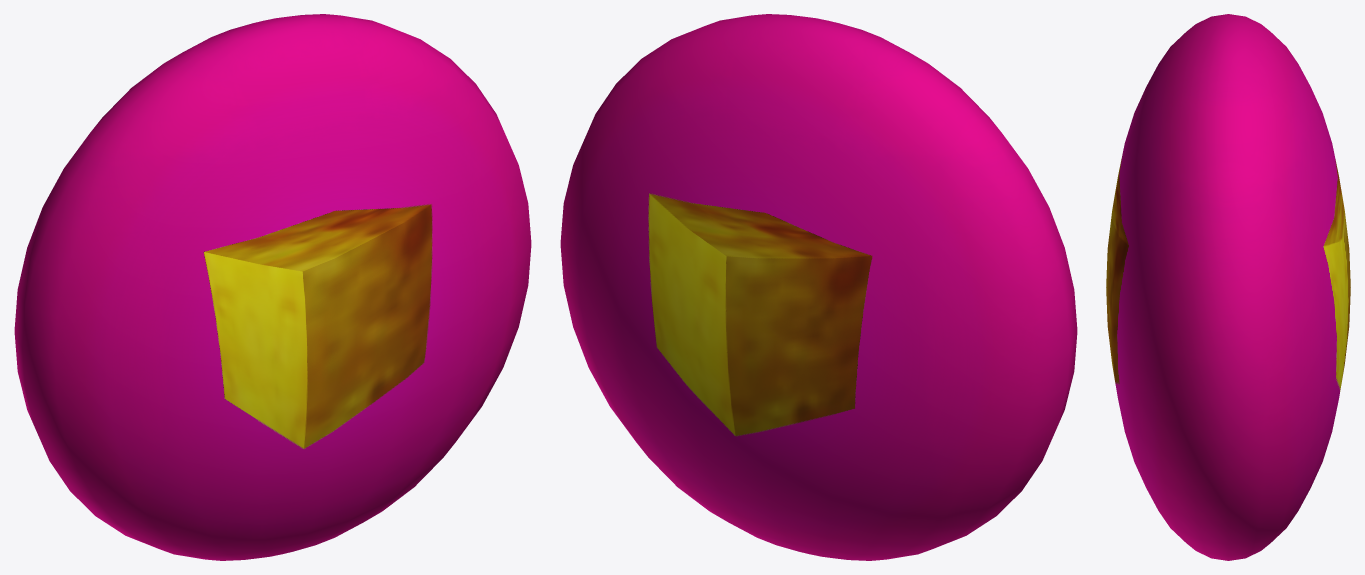
File: BlockItemMAYA_B.fbx
3 views of the same model, side by side, from view 1: azimuth 30°, elevation 25°; view 2: azimuth 150°, elevation 25°; view 3: azimuth 270°, elevation 25° (orthographic). The views are drawn at different scales.
Parts seen in each view (by area): view 1: marbleChoco; view 2: marbleChoco; view 3: marbleChoco.
Boxes of the visible parts, x1,y1,x2,y2 form: marbleChoco: [14, 14, 531, 560]; marbleChoco: [560, 14, 1077, 560]; marbleChoco: [1106, 14, 1350, 560].
Bounding box in the file's own units: 80 × 80 × 35.76.
Materials: 1 (1 with a texture image).
